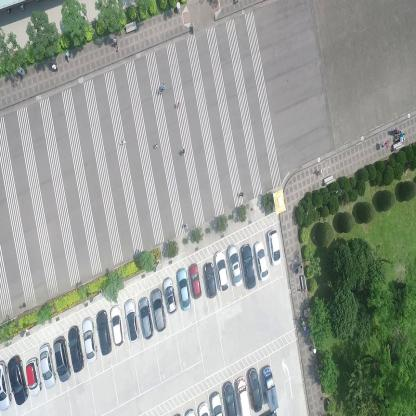car: (7, 354, 29, 405), (52, 335, 72, 383), (94, 309, 112, 357), (67, 324, 84, 372), (262, 364, 279, 411), (81, 316, 98, 362), (39, 342, 56, 388), (150, 287, 167, 332), (247, 367, 264, 412), (241, 242, 256, 290), (124, 297, 140, 342), (227, 243, 243, 287), (138, 296, 154, 340), (214, 249, 230, 292), (0, 359, 13, 411), (254, 239, 270, 281), (26, 355, 42, 397), (110, 304, 126, 345), (177, 267, 191, 311), (162, 276, 178, 314), (236, 375, 250, 415), (267, 229, 282, 266), (203, 261, 218, 298), (188, 262, 202, 300), (223, 381, 238, 415), (211, 390, 223, 415), (198, 400, 209, 416)
